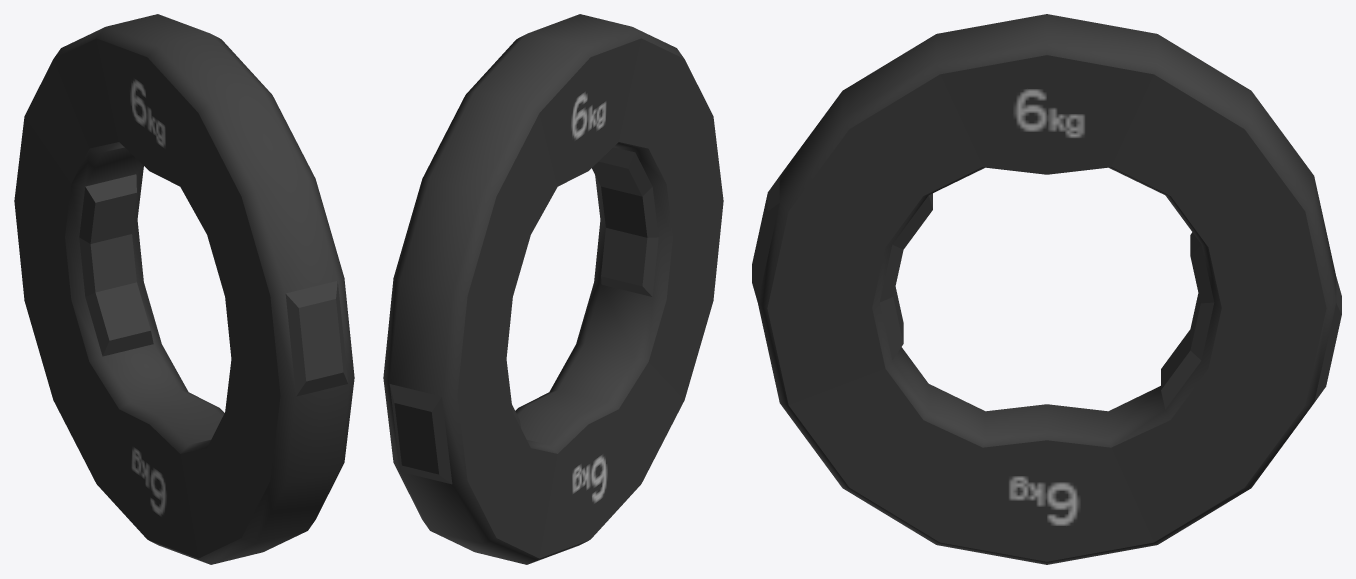
Rendered from Weight_C.fbx.
3 views of the same model, side by side, from view 1: azimuth 30°, elevation 25°; view 2: azimuth 150°, elevation 25°; view 3: azimuth 270°, elevation 25° (orthographic). The views are drawn at different scales.
Visible parts, largest first — view 1: Weight_C; view 2: Weight_C; view 3: Weight_C.
Part boxes in pixels (x1,y1,x2,y2): Weight_C: (14, 14, 354, 564); Weight_C: (383, 14, 723, 564); Weight_C: (752, 14, 1341, 564).
Bounding box in the file's own units: 3.92 × 25.2 × 25.7.
